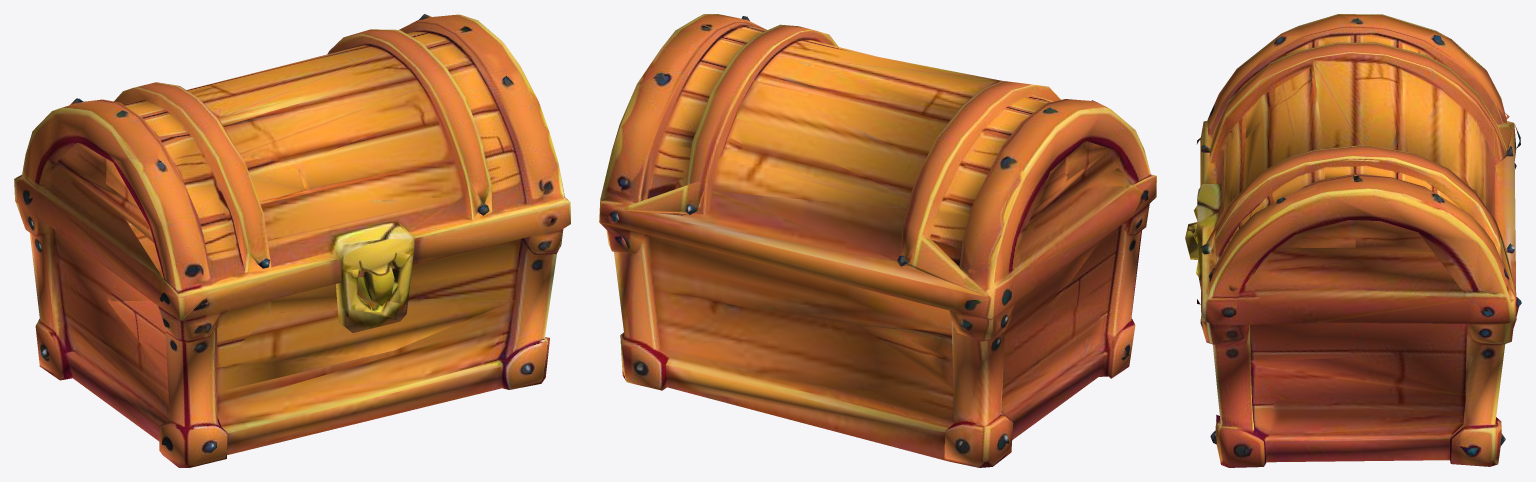
File: chest.glb
3 views of the same model, side by side, from view 1: azimuth 30°, elevation 25°; view 2: azimuth 150°, elevation 25°; view 3: azimuth 270°, elevation 25° (orthographic). The views are drawn at different scales.
Size of the model in its own units: 1.91 by 1.39 by 1.47.
1 material, 1 textured.
